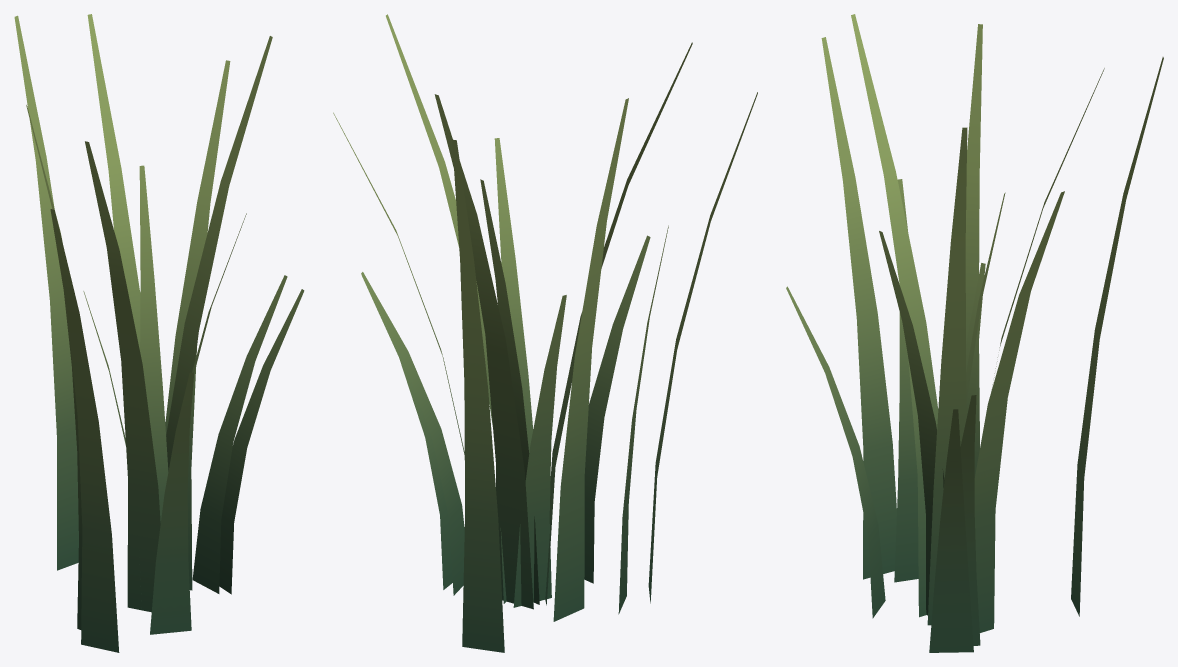
Rendered from Plant_SeaGrass.glb.
3 renders of one model, left to right at view 1: azimuth 30°, elevation 25°; view 2: azimuth 150°, elevation 25°; view 3: azimuth 270°, elevation 25°, orthographic. The views are drawn at different scales.
Parts seen in each view (by area): view 1: Plant_SeaGrass; view 2: Plant_SeaGrass; view 3: Plant_SeaGrass.
Part boxes in pixels (bbox=[...]): Plant_SeaGrass: bbox=[14, 14, 304, 652]; Plant_SeaGrass: bbox=[333, 14, 757, 652]; Plant_SeaGrass: bbox=[786, 14, 1163, 652].
Size of the model in its own units: 0.5934 by 0.9581 by 0.5909.
